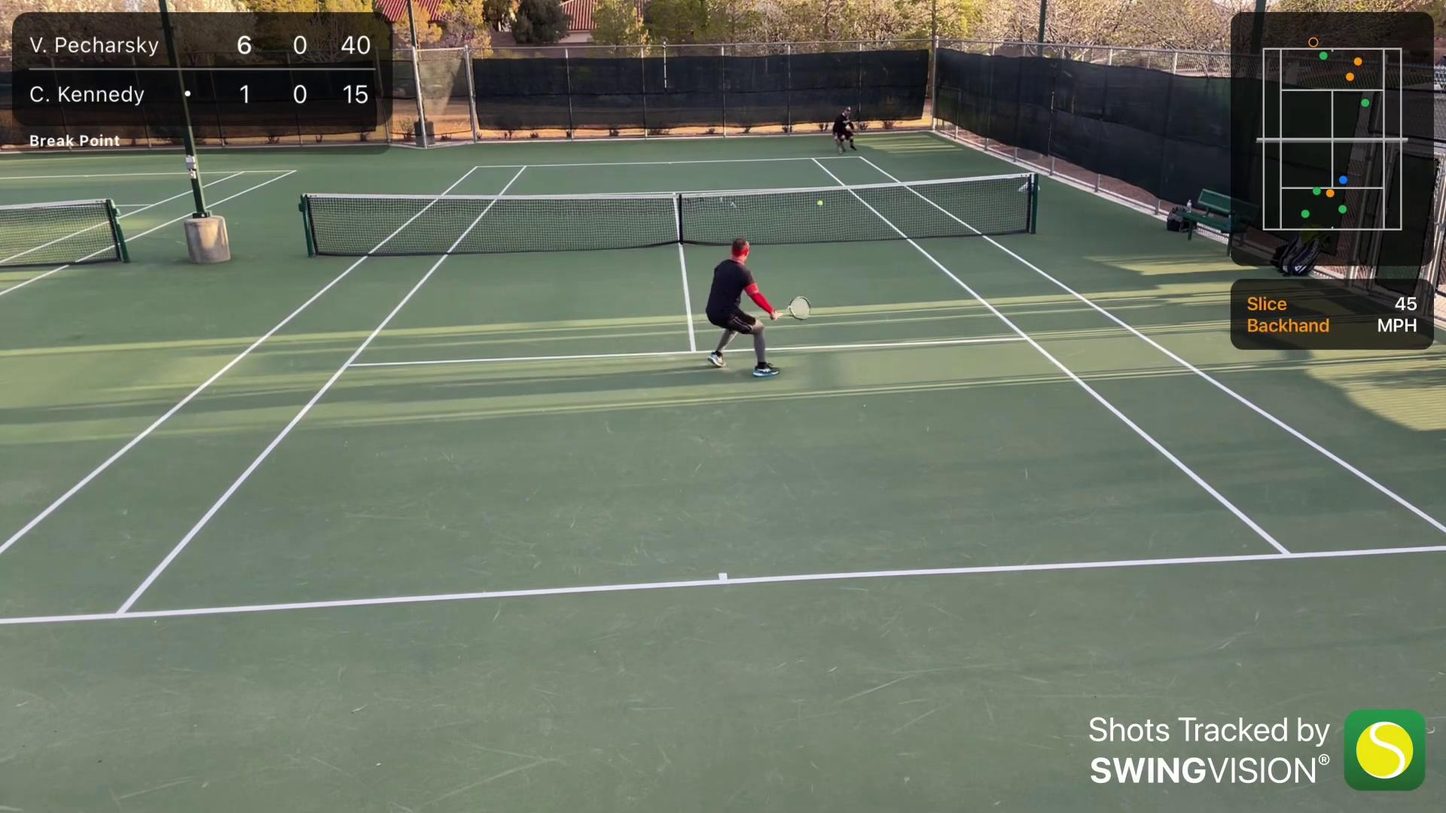ball: (816, 201, 823, 207)
